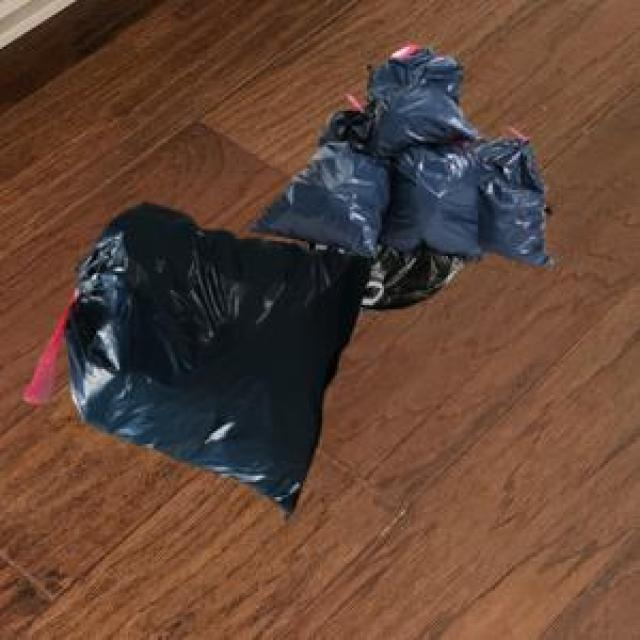Vinyl: (66, 48, 548, 509)
